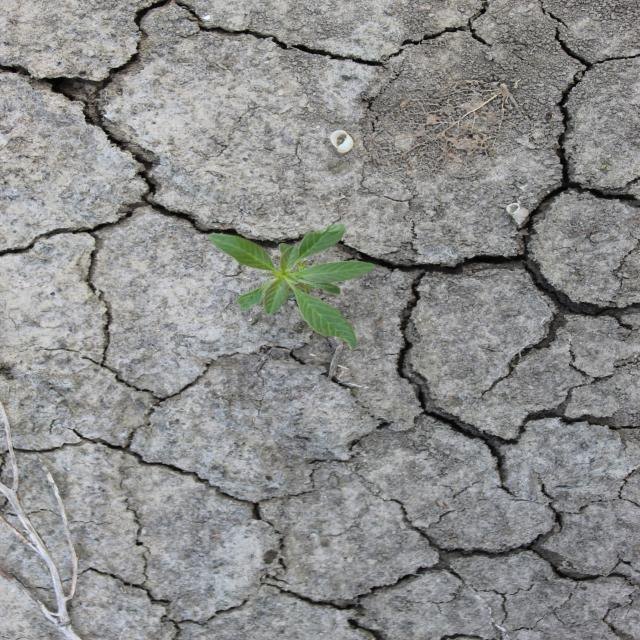Waterhemp: (204, 222, 378, 352)
